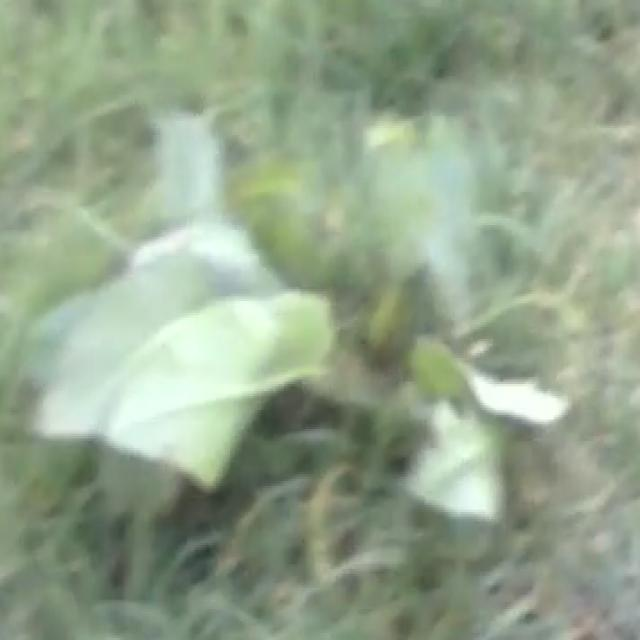organic waste: (45, 101, 621, 567)
